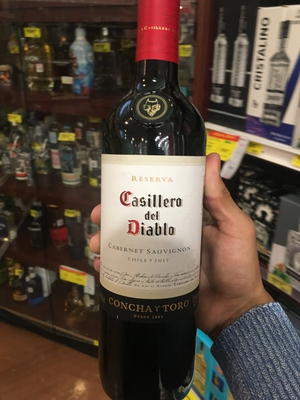casillero del diablo cabernet sauvignon: (100, 14, 212, 396)
